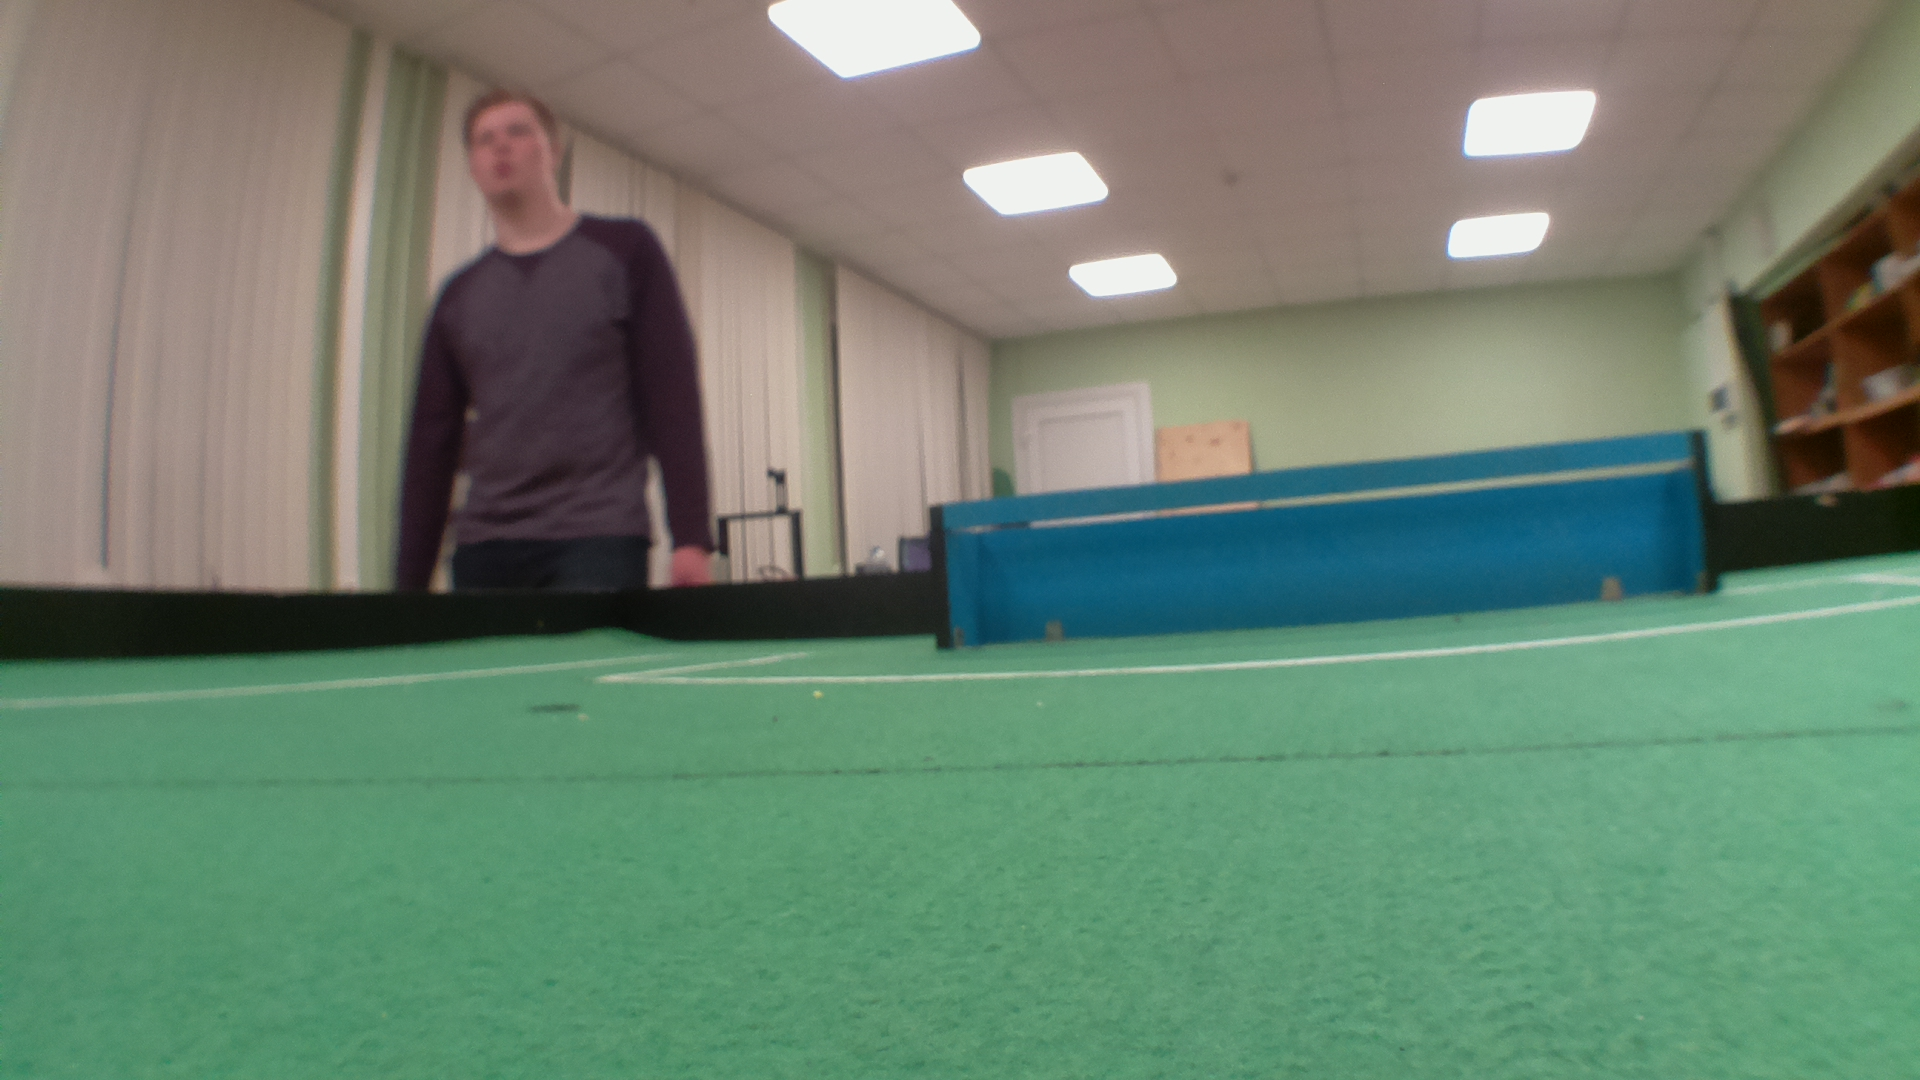BlueGoal: (936, 427, 1695, 642)
